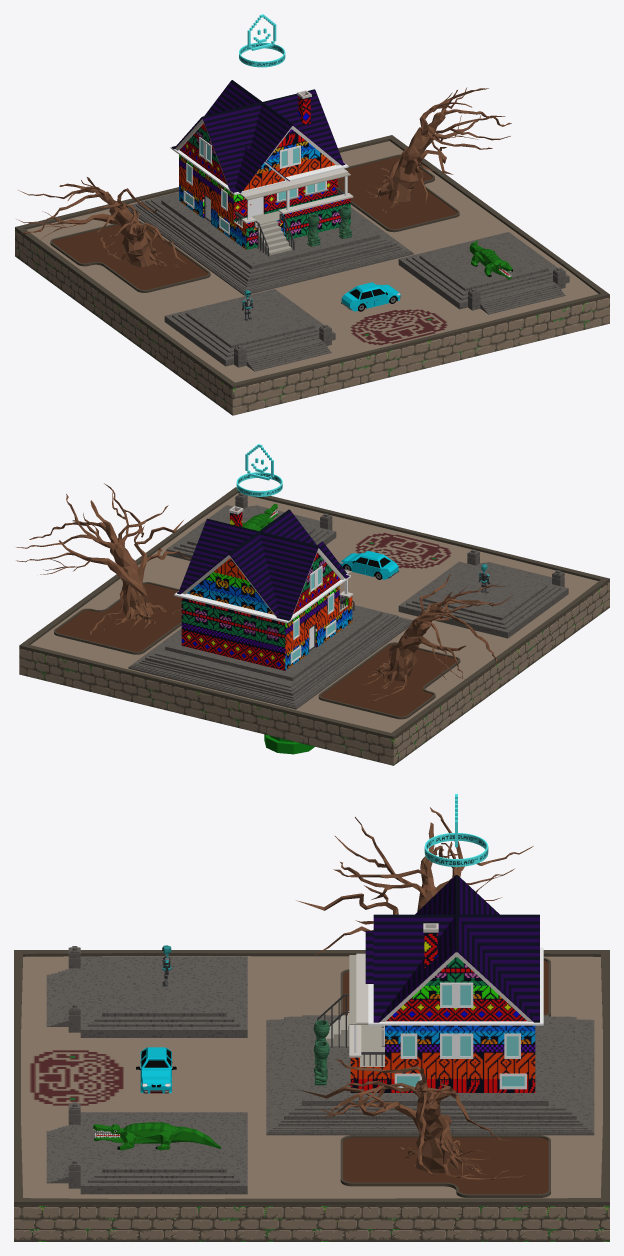
The picture shows the model from 3 angles, top to bottom: view 1: azimuth 30°, elevation 25°; view 2: azimuth 150°, elevation 25°; view 3: azimuth 270°, elevation 25°; orthographic projection. The views are drawn at different scales.
Visible parts, largest first — view 1: Cube.011, Cube.966, VEHICLES_CAR, TYPE_PREMIUM, ANIMAL_COCODRILO; view 2: Cube.011, Cube.966, VEHICLES_CAR, TYPE_PREMIUM, UNDERGROUND_PIPES, ANIMAL_COCODRILO; view 3: Cube.011, Cube.966, ANIMAL_COCODRILO, VEHICLES_CAR, TYPE_PREMIUM.
Part boxes in pixels (x1,y1,x2,y2): Cube.011: (15,87,609,415); Cube.966: (170,80,353,256); VEHICLES_CAR: (341,282,400,311); TYPE_PREMIUM: (239,14,285,67); ANIMAL_COCODRILO: (469,240,512,279); Cube.011: (16,483,609,765); Cube.966: (174,506,354,670); VEHICLES_CAR: (339,551,399,579); TYPE_PREMIUM: (236,444,282,496); UNDERGROUND_PIPES: (264,734,314,754); ANIMAL_COCODRILO: (242,503,277,530); Cube.011: (14,807,609,1241); Cube.966: (317,875,543,1092); ANIMAL_COCODRILO: (93,1122,220,1150); VEHICLES_CAR: (136,1047,176,1093); TYPE_PREMIUM: (424,794,488,866).
Size of the model in its own units: 5099 by 3050 by 4000.
Materials: 43 (10 with a texture image).
